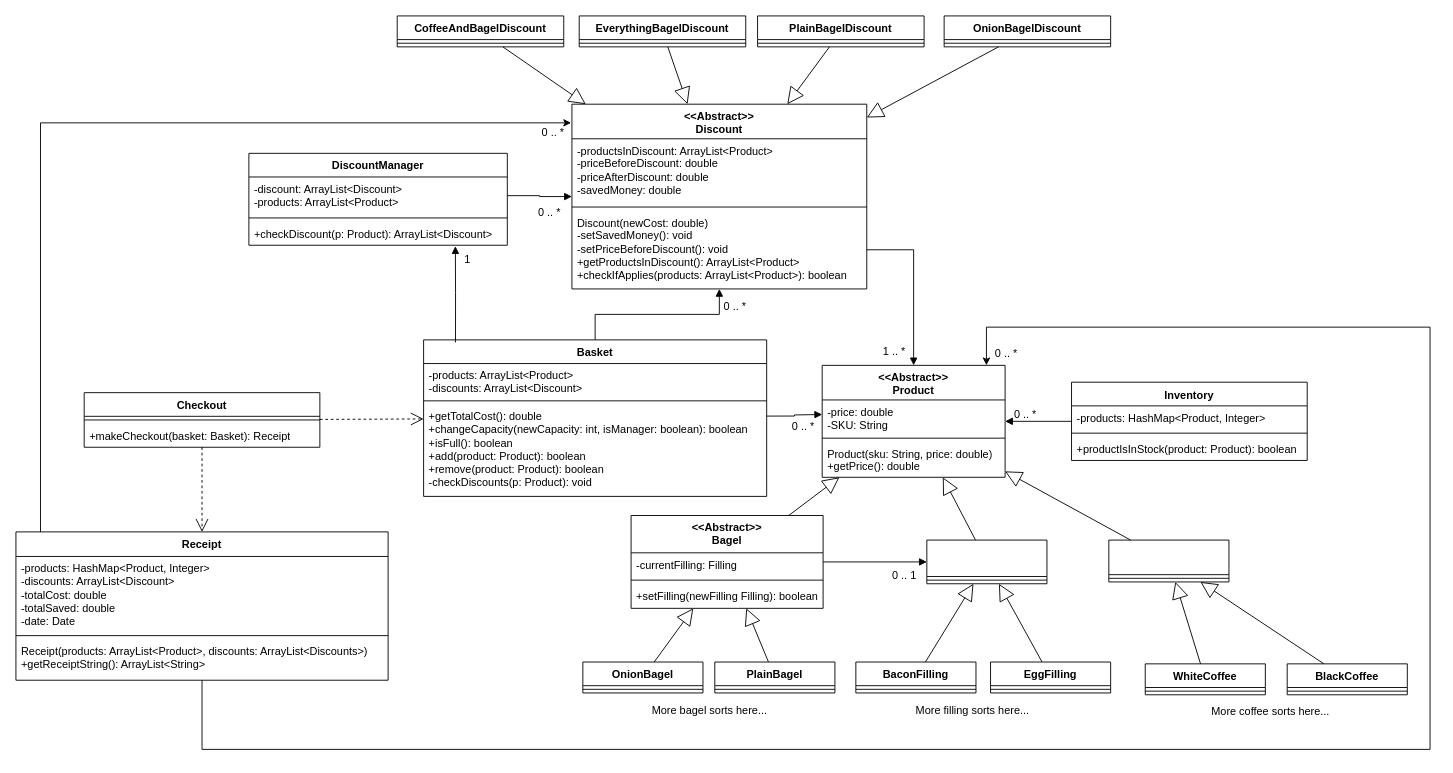
Image size: 1453x773. Some labels were removed from this diagram. Here are the shapes that lost their labels. From the top down, the centre of each, then its label:
point 986,561: <<Abstract>> Filling
point 1168,560: <<Abstract>> Coffee
